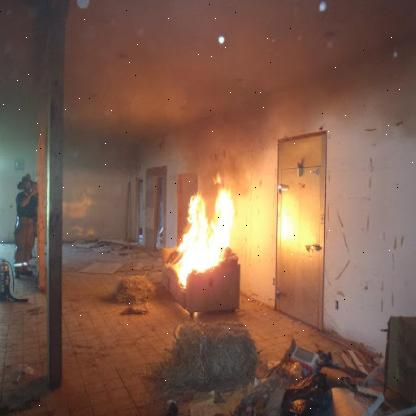fire: (169, 179, 237, 291)
smoke: (0, 0, 416, 274)
